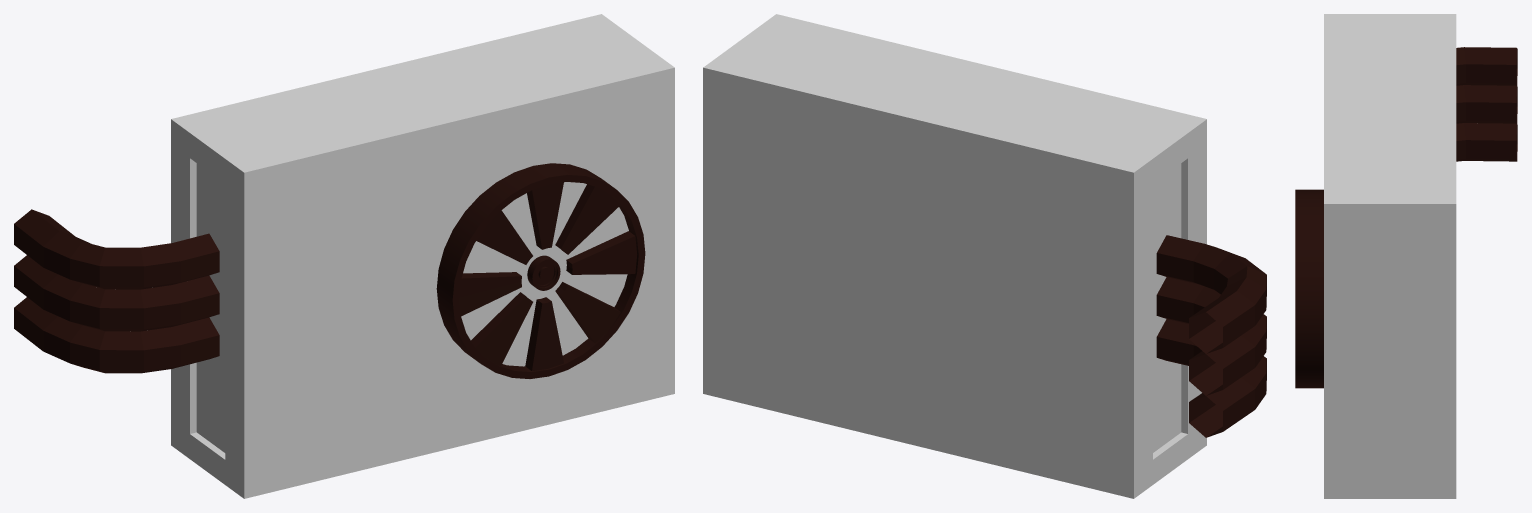
3 renders of one model, left to right at view 1: azimuth 30°, elevation 25°; view 2: azimuth 150°, elevation 25°; view 3: azimuth 270°, elevation 25°, orthographic. The views are drawn at different scales.
Parts seen in each view (by area): view 1: Plane.001; view 2: Plane.001; view 3: Plane.001.
Boxes of the visible parts, x1,y1,x2,y2 form: Plane.001: (14, 14, 674, 498); Plane.001: (703, 14, 1266, 498); Plane.001: (1295, 14, 1517, 498).
Bounding box in the file's own units: 94.78 × 53.21 × 36.37.
